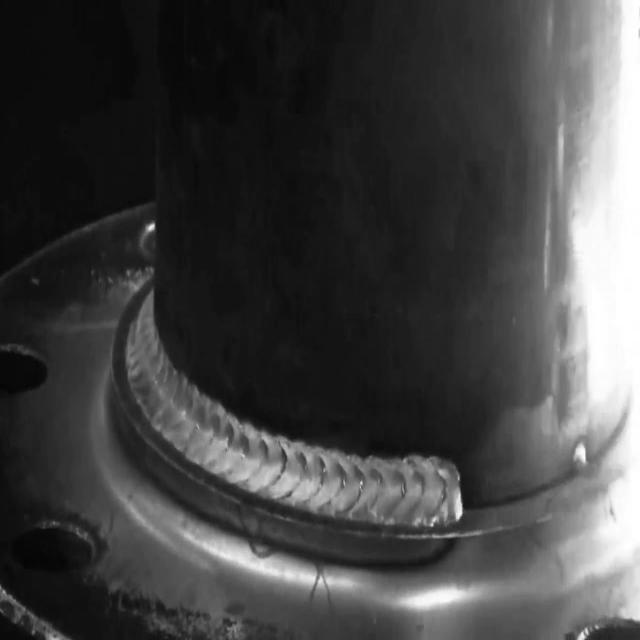Good Weld: (123, 284, 463, 529)
